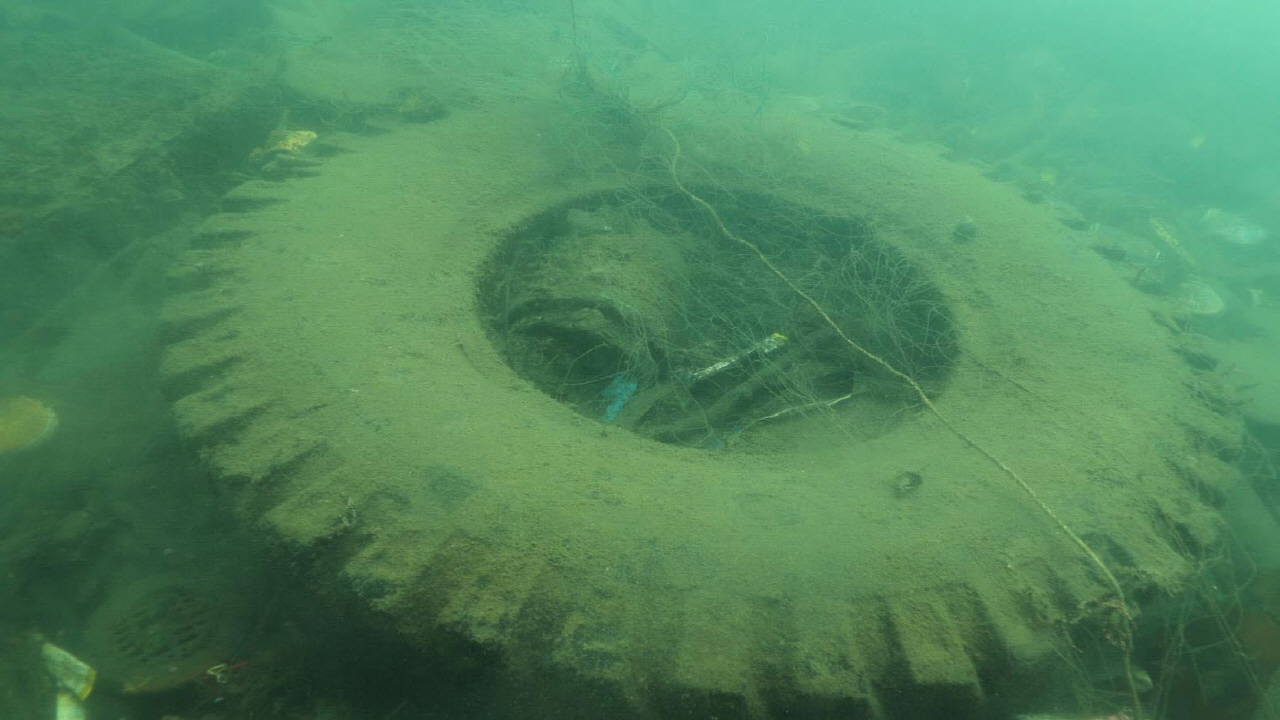tire: (162, 82, 1235, 720)
